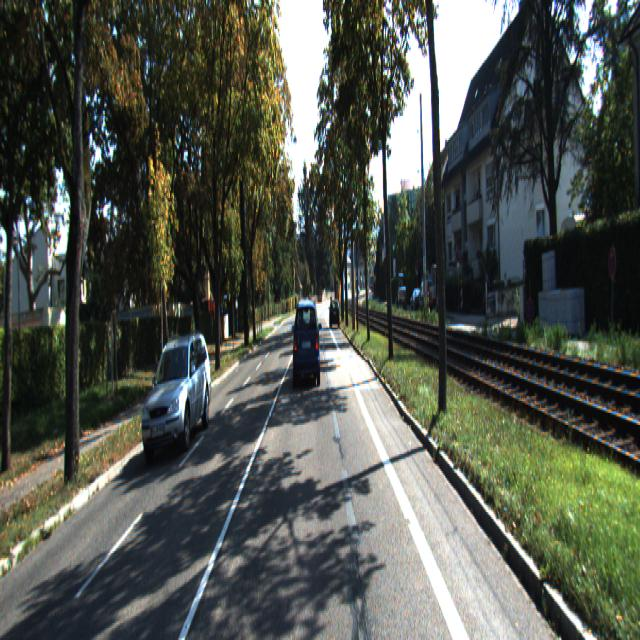Car: (140, 328, 212, 460), (293, 300, 322, 392), (428, 264, 442, 318), (418, 279, 434, 317), (330, 301, 340, 332)
